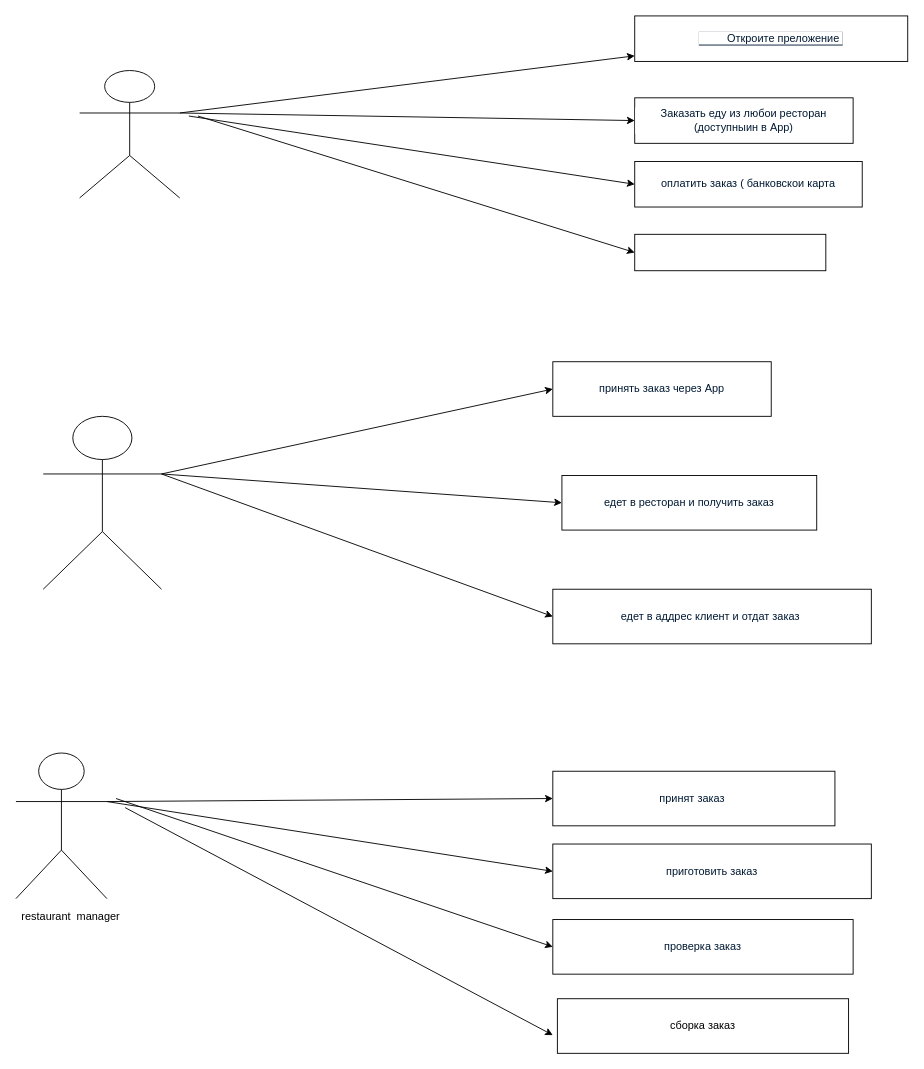
Some shapes in this 924 by 1069 pixel diagram are drawn without their labels. The centre of each missing label's shape, as x and y in pixels:
Klient: [129,134]
kourier: [102,502]
получить заказ: [730,252]
